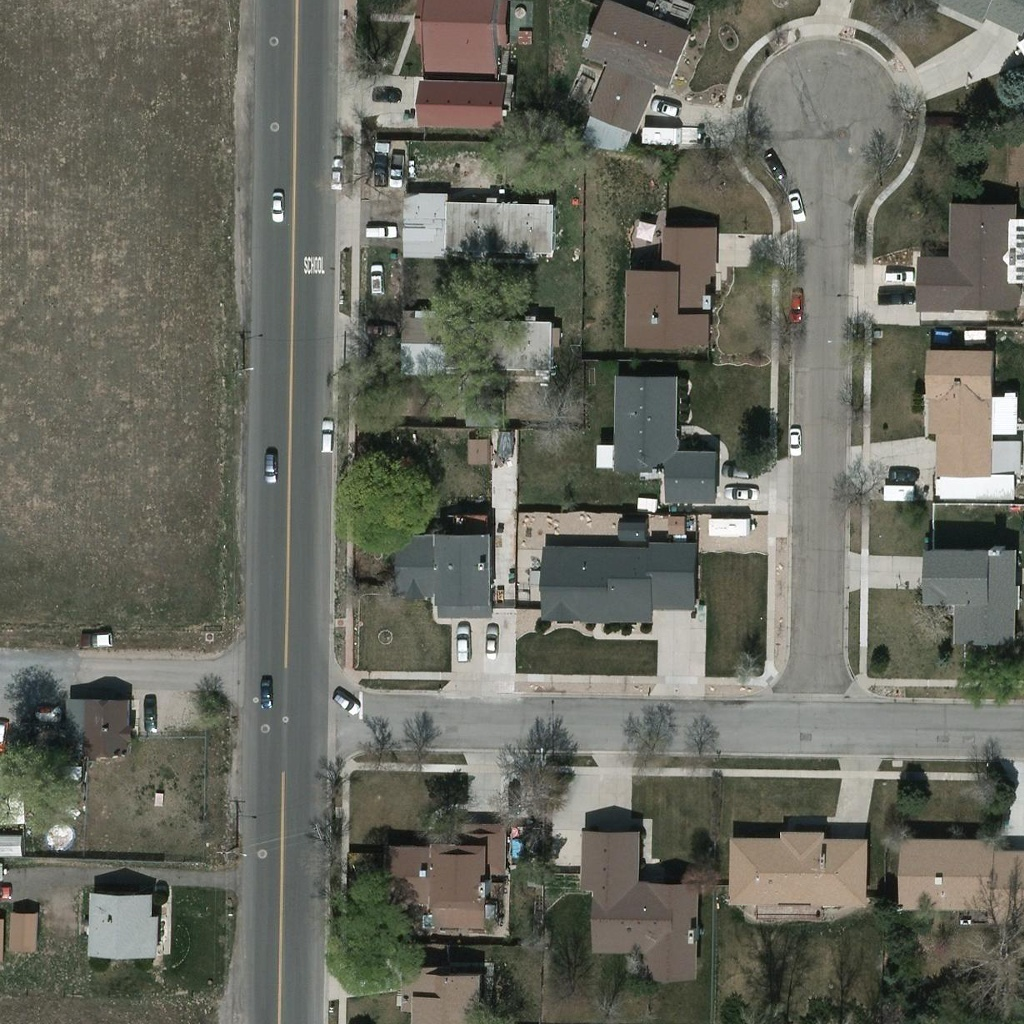car: (332, 690, 362, 718), (761, 150, 787, 181), (455, 625, 473, 663), (886, 465, 921, 484), (652, 98, 682, 120), (79, 630, 113, 649), (389, 151, 406, 187), (269, 191, 287, 225), (788, 191, 807, 223), (142, 695, 158, 732), (365, 223, 399, 240), (364, 321, 398, 338), (721, 462, 753, 480), (724, 485, 760, 501), (263, 451, 279, 486), (372, 154, 388, 188), (484, 624, 500, 658), (320, 418, 335, 454), (373, 86, 401, 105), (789, 289, 805, 322), (330, 156, 345, 190), (788, 423, 803, 457), (260, 676, 274, 710), (371, 263, 385, 296), (884, 269, 915, 283), (509, 779, 521, 814)
pickup: (876, 287, 914, 308)
